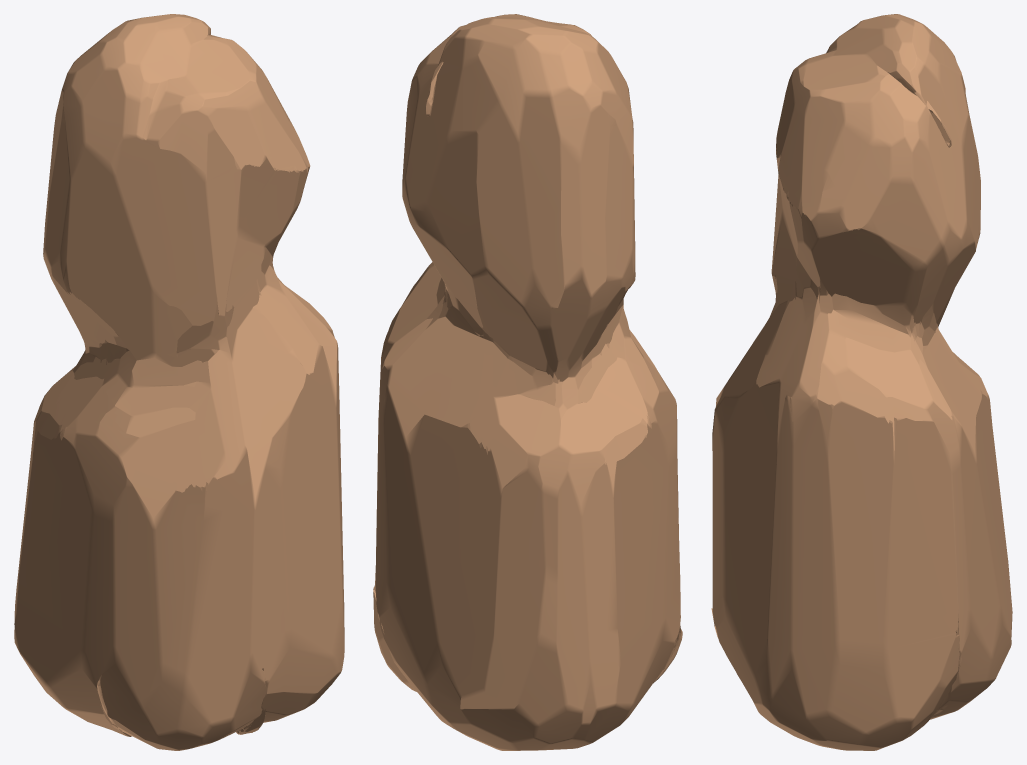
3 views of the same model, side by side, from view 1: azimuth 30°, elevation 25°; view 2: azimuth 150°, elevation 25°; view 3: azimuth 270°, elevation 25° (orthographic). The views are drawn at different scales.
Parts seen in each view (by area): view 1: Mesh_17_LOD0; view 2: Mesh_17_LOD0; view 3: Mesh_17_LOD0.
Part boxes in pixels (box(x1,y1,x2,y2)): Mesh_17_LOD0: box(14, 14, 344, 750); Mesh_17_LOD0: box(373, 14, 682, 750); Mesh_17_LOD0: box(711, 14, 1012, 750).
Size of what is drawn, in the model's own units: 396 by 994 by 399.
